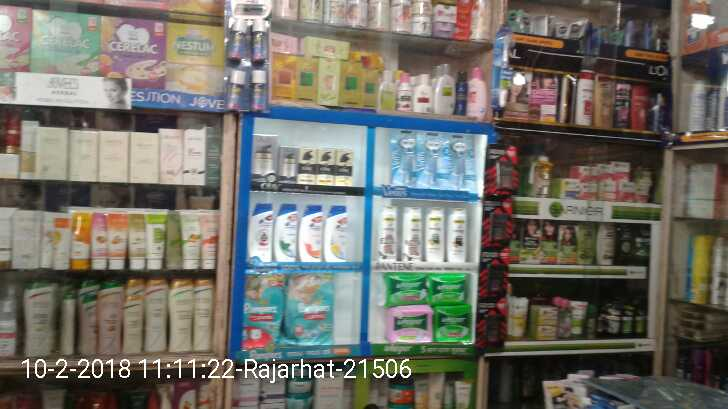venus: (449, 133, 478, 192), (390, 133, 421, 185), (423, 133, 449, 192)
